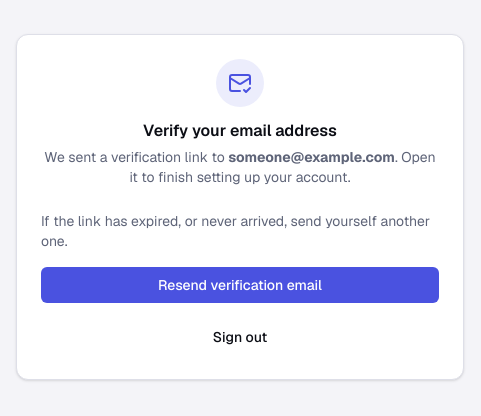
Test case: VerifyEmailNotice › handles a 429 the client did not predict
Click the button "Resend verification email": (240, 285) [41, 267, 439, 303]
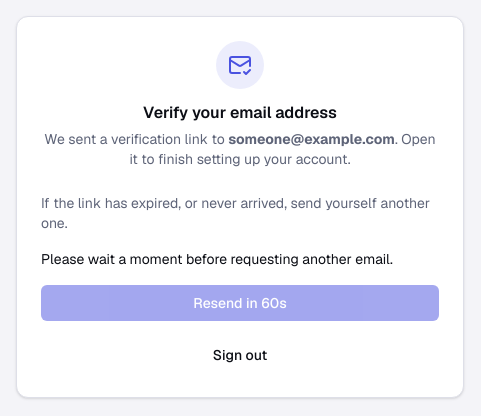
Expected: the message shows "Please wait a moment", [41, 250, 393, 268]
Expected: the button "Resend in 60s" is disabled, [41, 285, 439, 321]
